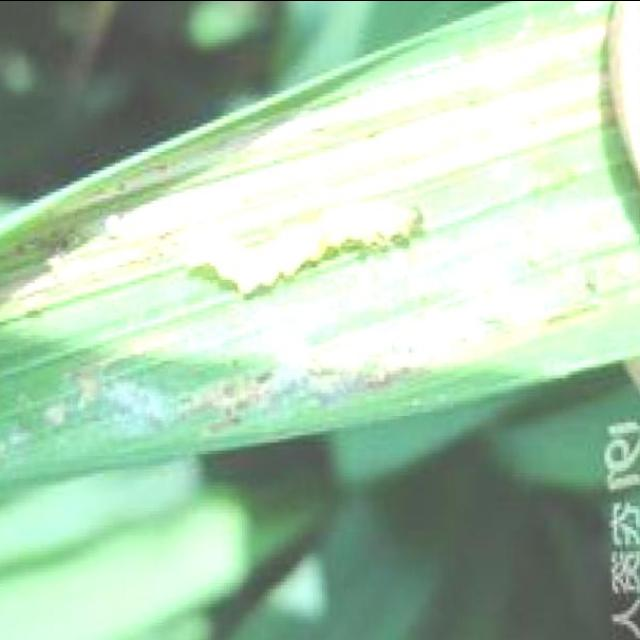leaf folder: (105, 204, 423, 295)
